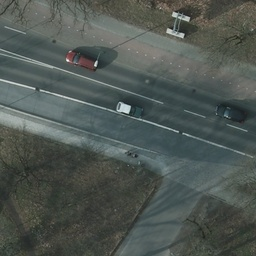car: (65, 48, 99, 70), (216, 103, 247, 123), (115, 98, 143, 119)
